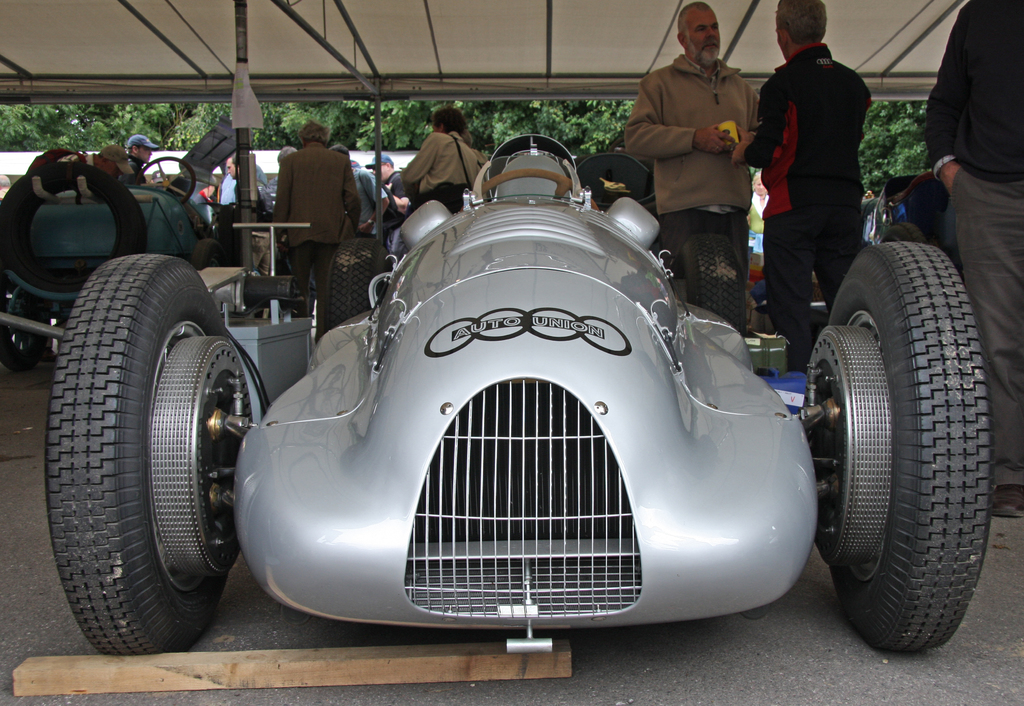Car: (45, 133, 994, 656), (1, 129, 278, 367)
